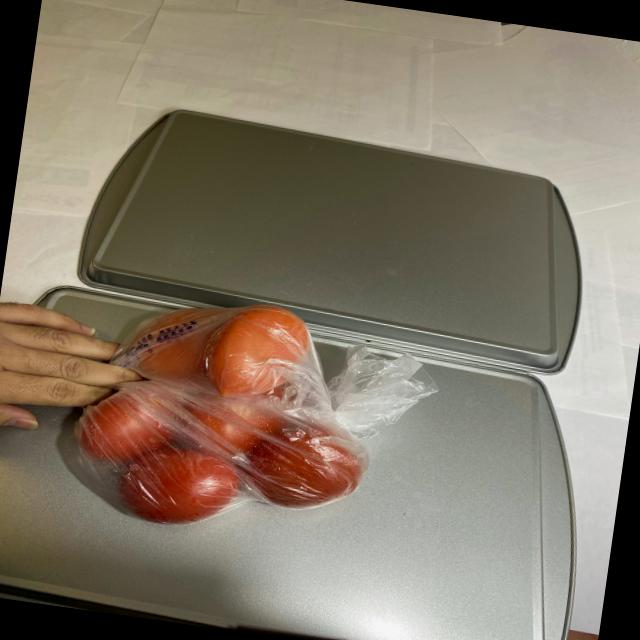tomato: (69, 282, 408, 551)
